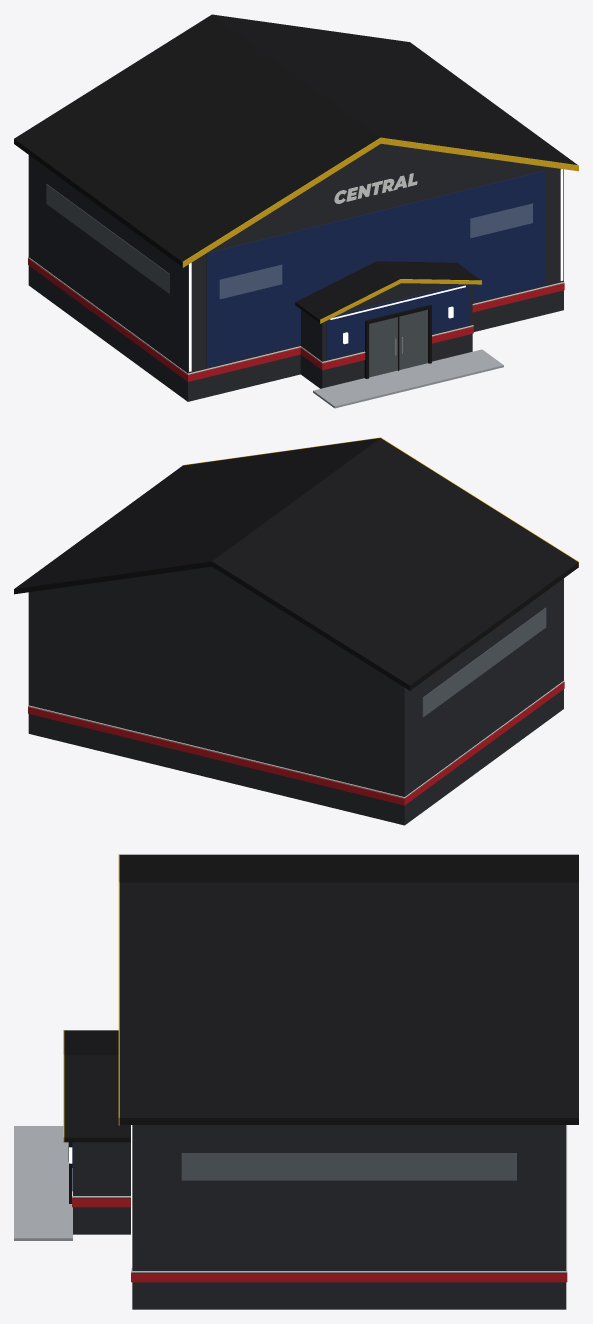
Rendered from MeetHall_03.glb.
The picture shows the model from 3 angles, top to bottom: view 1: azimuth 30°, elevation 25°; view 2: azimuth 150°, elevation 25°; view 3: azimuth 270°, elevation 25°; orthographic projection. The views are drawn at different scales.
Visible parts, largest first — view 1: MeetHallBig_Roof, MeetHallBig_Walls, MeetHallBig_Facade, MeetHallBig_Windows, MeetHallBig_Landing, MeetHallBig_Stripe, MeetHallBig_RoofTrim, MeetHallBig_Inside, MeetHallBig_Doors, MeetHallBig_DoorFrame, MeetHallBig_Pinstripe, MeetHallBig_GableLogo (+1 smaller); view 2: MeetHallBig_Walls, MeetHallBig_Roof, MeetHallBig_Stripe, MeetHallBig_Windows, MeetHallBig_Pinstripe, MeetHallBig_RoofTrim; view 3: MeetHallBig_Roof, MeetHallBig_Walls, MeetHallBig_Windows, MeetHallBig_Landing, MeetHallBig_Stripe, MeetHallBig_Pinstripe, MeetHallBig_RoofTrim.
Boxes of the visible parts, x1=… form: MeetHallBig_Roof: x1=14, y1=14, x2=577, y2=322; MeetHallBig_Walls: x1=28, y1=143, x2=563, y2=401; MeetHallBig_Facade: x1=206, y1=170, x2=545, y2=367; MeetHallBig_Windows: x1=46, y1=184, x2=532, y2=298; MeetHallBig_Landing: x1=313, y1=349, x2=503, y2=408; MeetHallBig_Stripe: x1=28, y1=258, x2=564, y2=381; MeetHallBig_RoofTrim: x1=182, y1=137, x2=578, y2=323; MeetHallBig_Inside: x1=369, y1=310, x2=428, y2=377; MeetHallBig_Doors: x1=369, y1=310, x2=427, y2=377; MeetHallBig_DoorFrame: x1=364, y1=304, x2=431, y2=378; MeetHallBig_Pinstripe: x1=28, y1=256, x2=564, y2=374; MeetHallBig_GableLogo: x1=334, y1=173, x2=417, y2=203; MeetHallBig_Walls: x1=28, y1=566, x2=563, y2=825; MeetHallBig_Roof: x1=14, y1=438, x2=578, y2=690; MeetHallBig_Stripe: x1=28, y1=682, x2=564, y2=805; MeetHallBig_Windows: x1=423, y1=608, x2=545, y2=716; MeetHallBig_Pinstripe: x1=28, y1=680, x2=564, y2=798; MeetHallBig_RoofTrim: x1=183, y1=437, x2=578, y2=567; MeetHallBig_Roof: x1=64, y1=854, x2=578, y2=1142; MeetHallBig_Walls: x1=73, y1=1125, x2=566, y2=1309; MeetHallBig_Windows: x1=182, y1=1153, x2=516, y2=1180; MeetHallBig_Landing: x1=14, y1=1126, x2=72, y2=1240; MeetHallBig_Stripe: x1=72, y1=1197, x2=567, y2=1282; MeetHallBig_Pinstripe: x1=72, y1=1125, x2=567, y2=1272; MeetHallBig_RoofTrim: x1=63, y1=854, x2=119, y2=1142.
Bounding box in the file's own units: 63.2 × 33.85 × 57.3.
